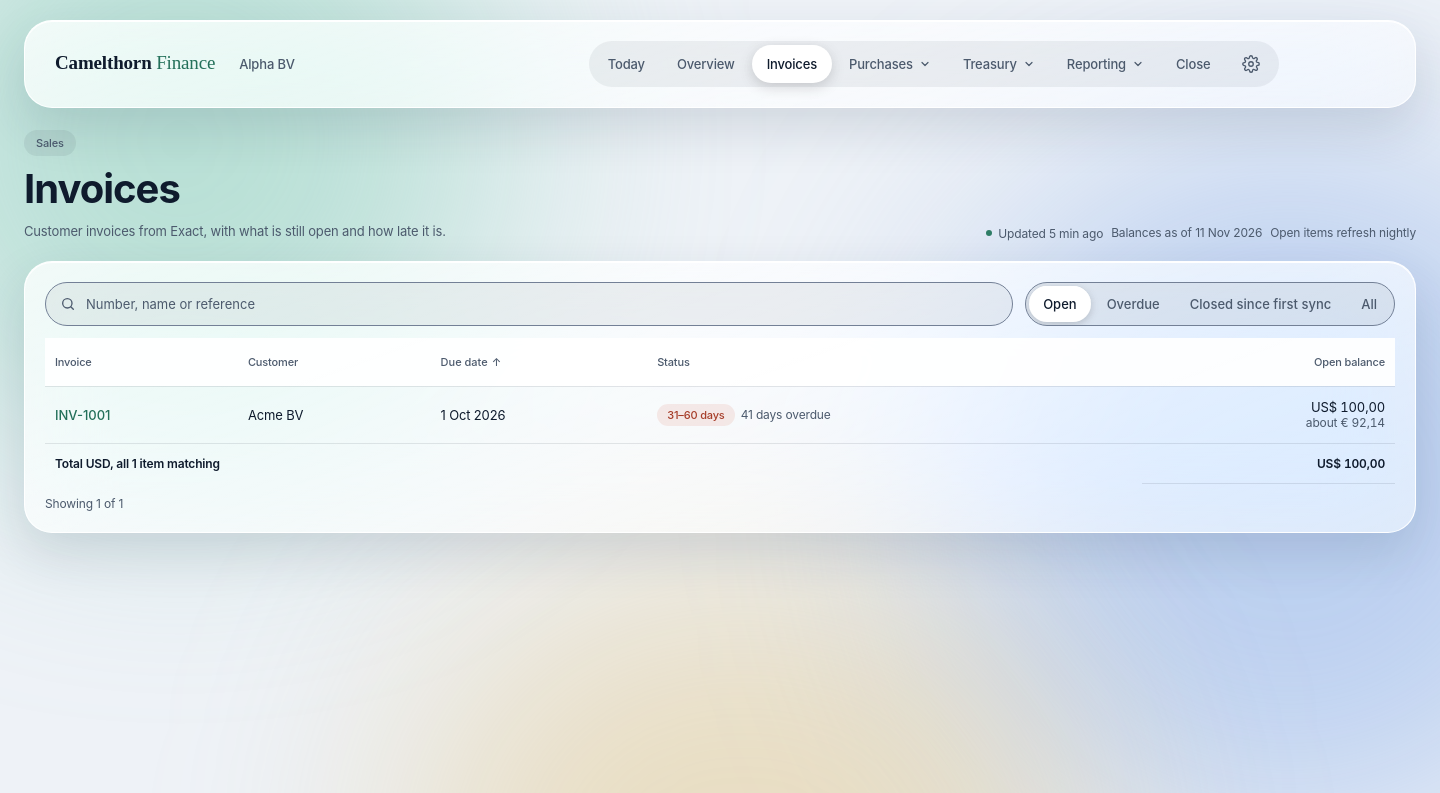
Test: Invoices and payables: rows and the item sheet › shows 'Booked amount not known yet' in the sheet when Exact has no euro amount
The width and height of the screenshot is (1440, 793).
Click the button "INV-1001". click: (83, 415)
box: [55,403,110,427]
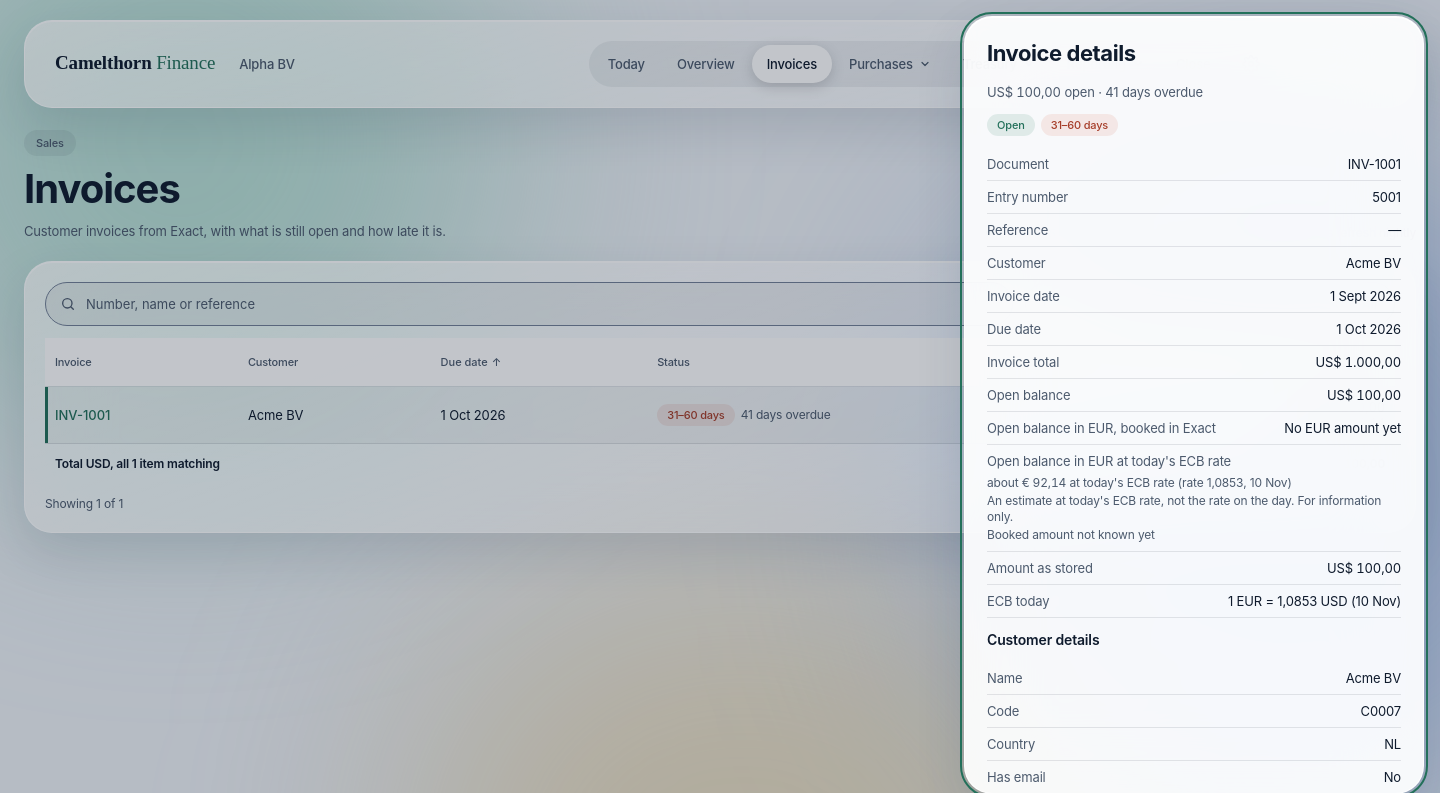
Result: the dialog shows "Booked amount not known yet" at [987,527,1155,542]
